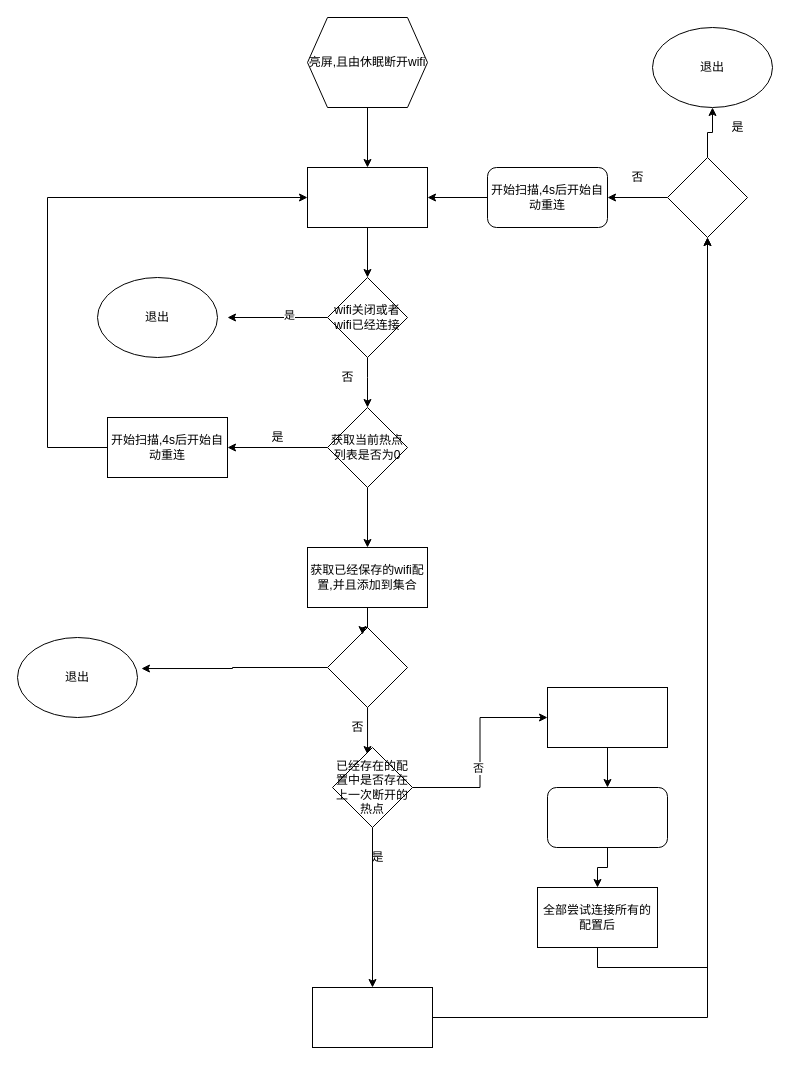
Image size: 790x1065. Some labels were removed from this diagram. Each missing label, with the box of its shape:
wifi连接是否成功: (666, 156, 748, 238)
已经保存的wifi配置集合: (546, 686, 668, 748)
已经存在的配置个数为0: (326, 626, 408, 708)
开始wifi自动重连: (306, 166, 428, 228)
开始连接该热点,8s后检测wifi是否连接成功: (312, 986, 432, 1048)
拿到每一个配置尝试连接,6s后尝试连接下一个配置.收到连接成功后的广播后,则退出: (546, 786, 668, 848)
